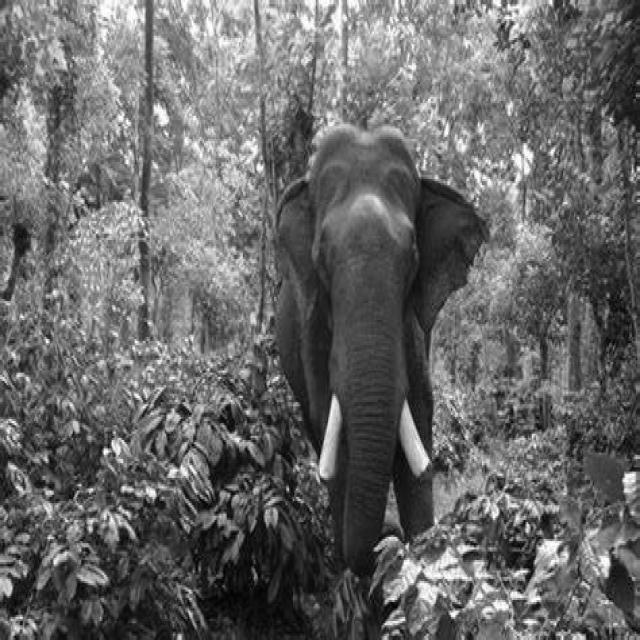Elephant: (273, 120, 489, 583)
